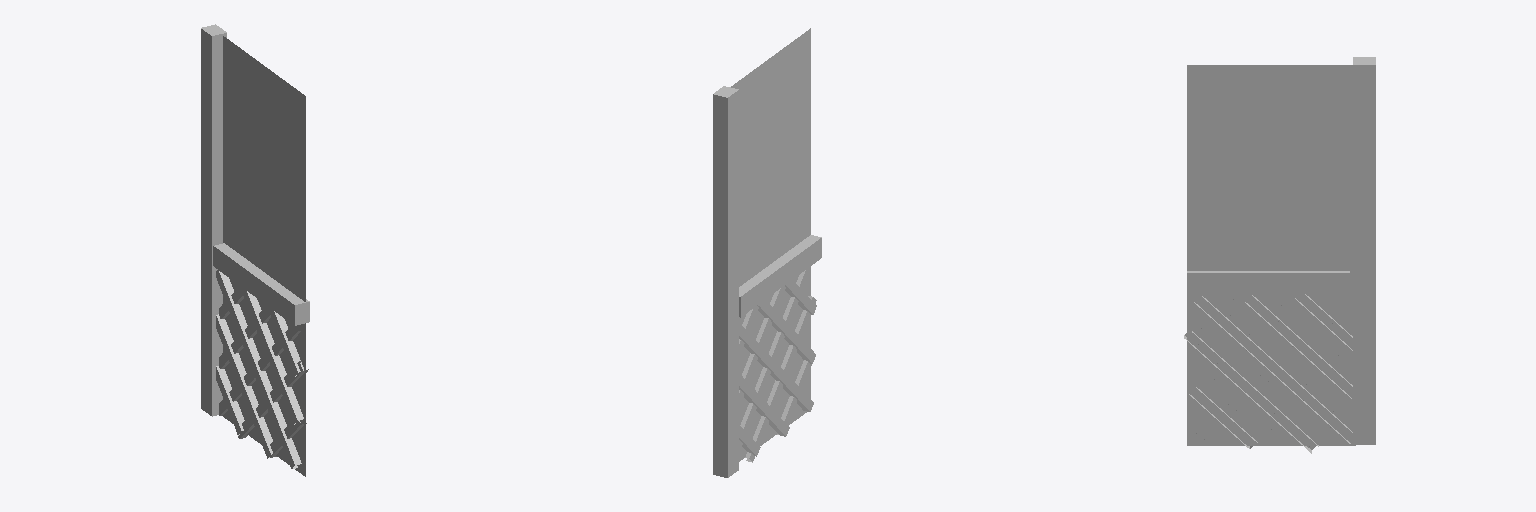
The model's file is PanelLow.obj.
3 views of the same model, side by side, from view 1: azimuth 30°, elevation 25°; view 2: azimuth 150°, elevation 25°; view 3: azimuth 270°, elevation 25° (orthographic).
Visible parts, largest first — view 1: group11 pPlane27, group11 pCube159, group11 pPlane26, group11 pCube160, group11 pCube151, group11 pCube150, group11 pCube152, group11 pCube153, group11 pCube149, group11 pCube158, group11 pCube155, group11 pCube154; view 2: group11 pPlane27, group11 pCube159, group11 pPlane26, group11 pCube160, group11 pCube151, group11 pCube153, group11 pCube155, group11 pCube152, group11 pCube150, group11 pCube154; view 3: group11 pPlane27, group11 pPlane26, group11 pCube159, group11 pCube160.
Part boxes in pixels (x1,y1,x2,y2): group11 pPlane27: (223, 36, 305, 301); group11 pCube159: (201, 24, 226, 416); group11 pPlane26: (222, 278, 305, 476); group11 pCube160: (213, 243, 309, 325); group11 pCube151: (216, 270, 301, 468); group11 pCube150: (216, 314, 272, 458); group11 pCube152: (240, 287, 303, 424); group11 pCube153: (219, 324, 300, 415); group11 pCube149: (216, 366, 244, 435); group11 pCube158: (267, 306, 303, 376); group11 pCube155: (237, 361, 308, 438); group11 pCube154: (219, 306, 270, 368); group11 pPlane27: (731, 28, 810, 286); group11 pCube159: (713, 86, 738, 477); group11 pPlane26: (739, 266, 810, 461); group11 pCube160: (739, 235, 821, 317); group11 pCube151: (739, 322, 813, 411); group11 pCube153: (739, 267, 810, 452); group11 pCube155: (745, 296, 816, 462); group11 pCube152: (757, 300, 815, 363); group11 pCube150: (739, 373, 789, 436); group11 pCube154: (739, 286, 785, 405); group11 pPlane27: (1187, 65, 1352, 276); group11 pPlane26: (1187, 277, 1355, 445); group11 pCube159: (1353, 57, 1375, 444); group11 pCube160: (1187, 271, 1349, 293).
Size of the model in its own units: 0.437 by 10.73 by 4.77.